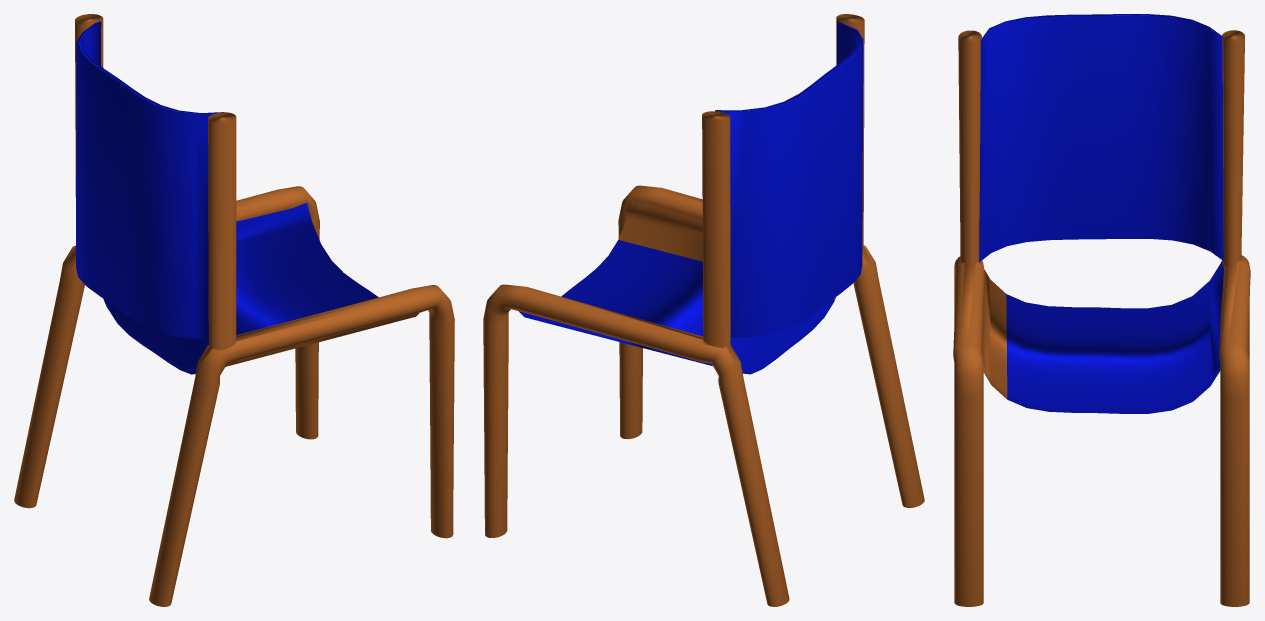
The model's file is chair.fbx.
3 views of the same model, side by side, from view 1: azimuth 30°, elevation 25°; view 2: azimuth 150°, elevation 25°; view 3: azimuth 270°, elevation 25° (orthographic).
Visible parts, largest first — view 1: Cylinder.003; view 2: Cylinder.003; view 3: Cylinder.003.
Part boxes in pixels (left/top/right/bottom): Cylinder.003: left=14, top=14, right=454, bottom=606; Cylinder.003: left=483, top=14, right=924, bottom=606; Cylinder.003: left=953, top=14, right=1250, bottom=606.
Size of the model in its own units: 1560 by 2325 by 1357.
